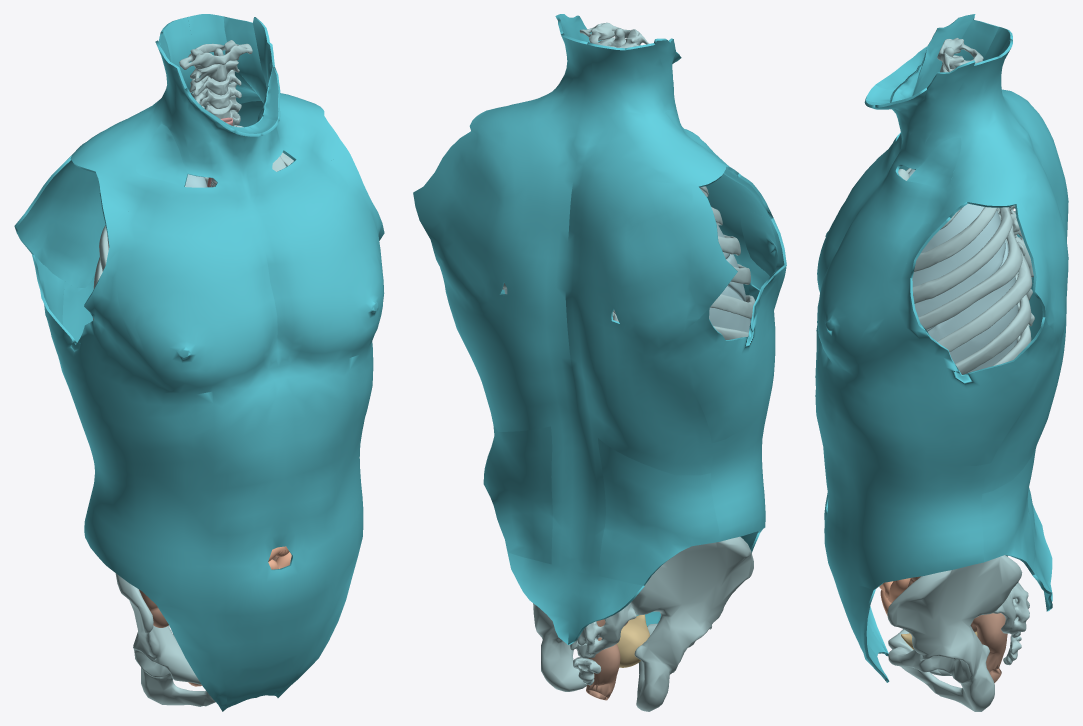
The model's file is z-anatomy-torso.glb.
3 renders of one model, left to right at view 1: azimuth 30°, elevation 25°; view 2: azimuth 150°, elevation 25°; view 3: azimuth 270°, elevation 25°, orthographic. The views are drawn at different scales.
Visible parts, largest first — view 1: body-shell__Lateral region of thorax.r, body-shell__Pectoral region.r, body-shell__Lateral region of abdomen.r, body-shell__Pectoral region.l, body-shell__Umbilical region.r, body-shell__Scapular region.r, body-shell__Epigastric region.r, body-shell__Hypochondriac region.r, body-shell__Umbilical region.l, body-shell__Epigastric region.l, body-shell__Mammary region.r, skeleton__Hip bone.r (+32 smaller); view 2: body-shell__Scapular region.r, body-shell__Infrascapular region.r, body-shell__Scapular region.l, body-shell__Vertebral region.l, body-shell__Lumbar region.r, body-shell__Posterior region of neck.r, skeleton__Hip bone.r, body-shell__Lateral region of thorax.r, body-shell__Vertebral region.r, body-shell__Infrascapular region.l, body-shell__Lumbar region.l, body-shell__Posterior region of neck.l (+18 smaller); view 3: body-shell__Lateral region of thorax.l, skeleton__Hip bone.l, body-shell__Lateral region of abdomen.l, body-shell__Pectoral region.l, body-shell__Posterior region of neck.l, body-shell__Hypochondriac region.l, body-shell__Scapular region.l, body-shell__Lumbar region.l, body-shell__Infrascapular region.l, body-shell__Lateral region of neck.l, lungs__Superior lobe of left lung, body-shell__Sternocleidomastoid region.l (+31 smaller).
Part boxes in pixels (bbox=[...]): body-shell__Lateral region of thorax.r: bbox=[32, 250, 214, 451]; body-shell__Pectoral region.r: bbox=[116, 214, 264, 394]; body-shell__Lateral region of abdomen.r: bbox=[84, 466, 213, 614]; body-shell__Pectoral region.l: bbox=[280, 166, 382, 361]; body-shell__Umbilical region.r: bbox=[212, 493, 282, 615]; body-shell__Scapular region.r: bbox=[14, 153, 105, 287]; body-shell__Epigastric region.r: bbox=[212, 379, 285, 503]; body-shell__Hypochondriac region.r: bbox=[86, 436, 214, 503]; body-shell__Umbilical region.l: bbox=[278, 473, 336, 610]; body-shell__Epigastric region.l: bbox=[280, 377, 349, 492]; body-shell__Mammary region.r: bbox=[135, 305, 225, 383]; skeleton__Hip bone.r: bbox=[115, 573, 215, 706]; body-shell__Scapular region.r: bbox=[605, 180, 737, 353]; body-shell__Infrascapular region.r: bbox=[585, 328, 713, 475]; body-shell__Scapular region.l: bbox=[413, 131, 515, 315]; body-shell__Vertebral region.l: bbox=[535, 158, 581, 571]; body-shell__Lumbar region.r: bbox=[598, 438, 719, 585]; body-shell__Posterior region of neck.r: bbox=[576, 42, 725, 187]; skeleton__Hip bone.r: bbox=[630, 536, 753, 711]; body-shell__Lateral region of thorax.r: bbox=[666, 202, 786, 443]; body-shell__Vertebral region.r: bbox=[565, 163, 605, 575]; body-shell__Infrascapular region.l: bbox=[459, 295, 550, 431]; body-shell__Lumbar region.l: bbox=[483, 425, 552, 564]; body-shell__Posterior region of neck.l: bbox=[469, 33, 592, 162]; body-shell__Lateral region of thorax.l: bbox=[824, 259, 1057, 465]; skeleton__Hip bone.l: bbox=[887, 555, 1022, 711]; body-shell__Lateral region of abdomen.l: bbox=[839, 469, 983, 589]; body-shell__Pectoral region.l: bbox=[817, 201, 922, 369]; body-shell__Posterior region of neck.l: bbox=[948, 39, 1037, 207]; body-shell__Hypochondriac region.l: bbox=[825, 399, 990, 500]; body-shell__Scapular region.l: bbox=[1015, 179, 1068, 343]; body-shell__Lumbar region.l: bbox=[981, 446, 1036, 575]; body-shell__Infrascapular region.l: bbox=[982, 315, 1066, 493]; body-shell__Lateral region of neck.l: bbox=[900, 56, 1000, 199]; lungs__Superior lobe of left lung: bbox=[912, 203, 1005, 331]; body-shell__Sternocleidomastoid region.l: bbox=[884, 60, 975, 194].
Size of the model in its own units: 0.3866 by 0.7667 by 0.2682.
